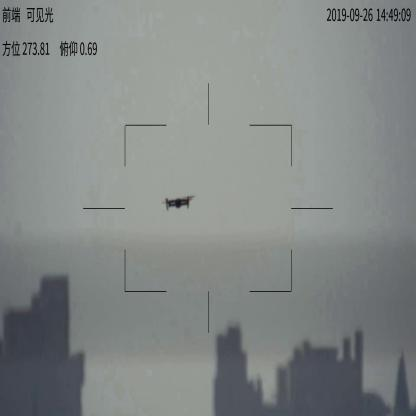uav: (156, 193, 194, 212)
